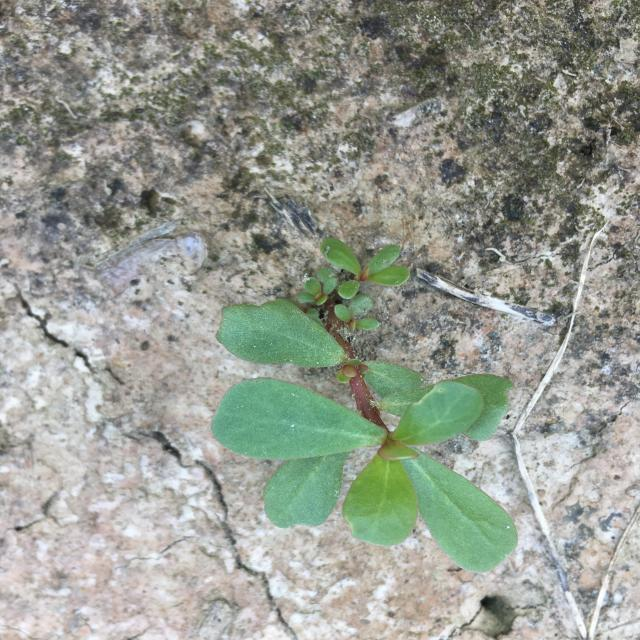Purslane: (210, 238, 518, 574)
